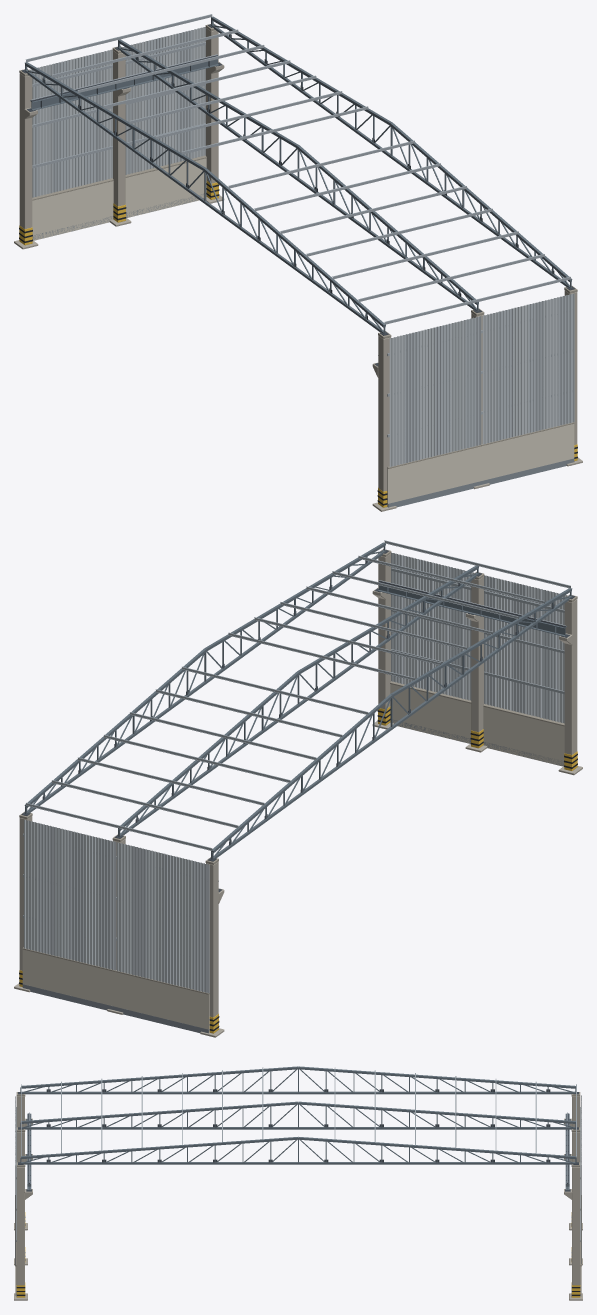
Rendered from barracao_trecho.glb.
The picture shows the model from 3 angles, top to bottom: view 1: azimuth 30°, elevation 25°; view 2: azimuth 150°, elevation 25°; view 3: azimuth 270°, elevation 25°; orthographic projection. The views are drawn at different scales.
Visible parts, largest first — view 1: telha_fechamento (×23), alvenaria (×4), pilar (×5); view 2: telha_fechamento (×24), alvenaria (×4), pilar (×5); view 3: pilar (×2).
Part boxes in pixels (x1,y1,x2,y2): telha_fechamento (×23): (29, 27, 574, 466); alvenaria (×4): (32, 158, 574, 506); pilar (×5): (19, 28, 577, 491); telha_fechamento (×24): (24, 552, 567, 993); alvenaria (×4): (22, 684, 564, 1032); pilar (×5): (19, 553, 577, 1017); pilar (×2): (16, 1167, 580, 1285).
Bounding box in the file's own units: 13 × 12.76 × 41.
